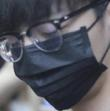with_mask: (2, 1, 110, 111)
